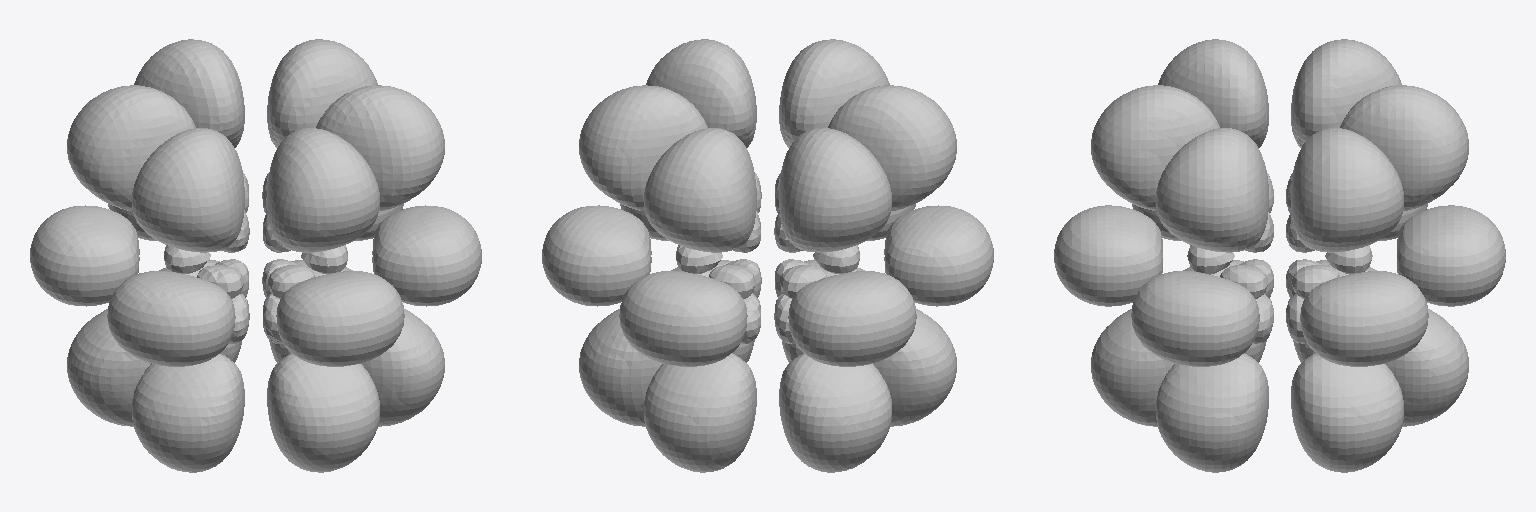
File: orb_n=7_ l=5 _m=-3.obj
3 renders of one model, left to right at view 1: azimuth 30°, elevation 25°; view 2: azimuth 150°, elevation 25°; view 3: azimuth 270°, elevation 25°, orthographic.
Parts seen in each view (by area): view 1: orb_n=7__l=5__m=-3; view 2: orb_n=7__l=5__m=-3; view 3: orb_n=7__l=5__m=-3.
Part boxes in pixels (bbox=[...]): orb_n=7__l=5__m=-3: bbox=[30, 39, 481, 472]; orb_n=7__l=5__m=-3: bbox=[542, 39, 993, 472]; orb_n=7__l=5__m=-3: bbox=[1054, 39, 1505, 472].
Size of the model in its own units: 166 by 148 by 182.